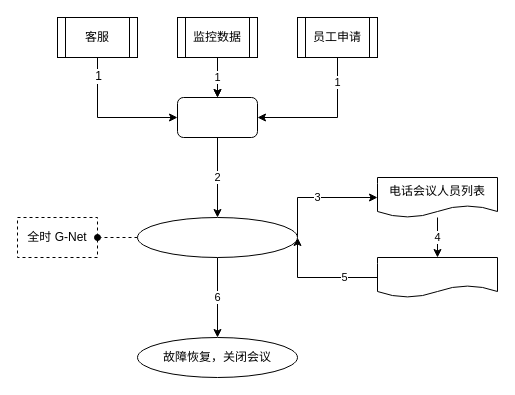
The diagram is 515 pixels wide and 395 high, and some of its shapes have lost their labels. Each missing label, with the centre of its shape:
"scout" belongs at (x=217, y=117).
"开启电话会议" belongs at (x=217, y=237).
"排障人员" belongs at (x=437, y=277).
